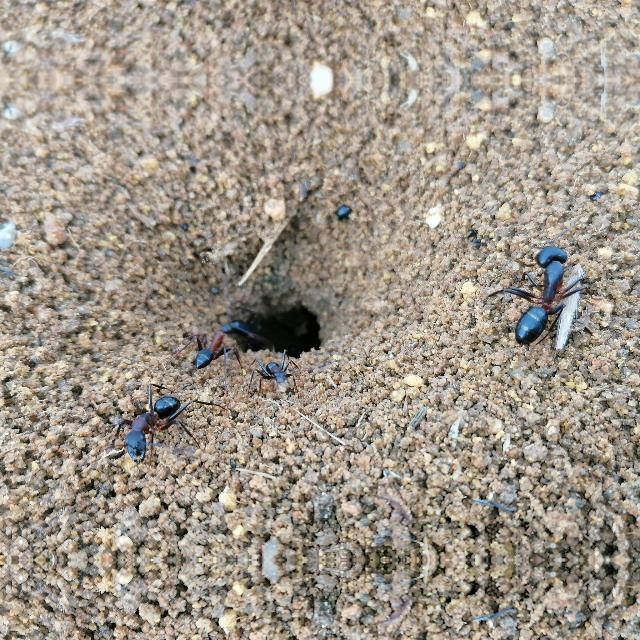Camponotus: (502, 230, 586, 356), (112, 376, 204, 472), (188, 322, 240, 374), (258, 346, 296, 394)
